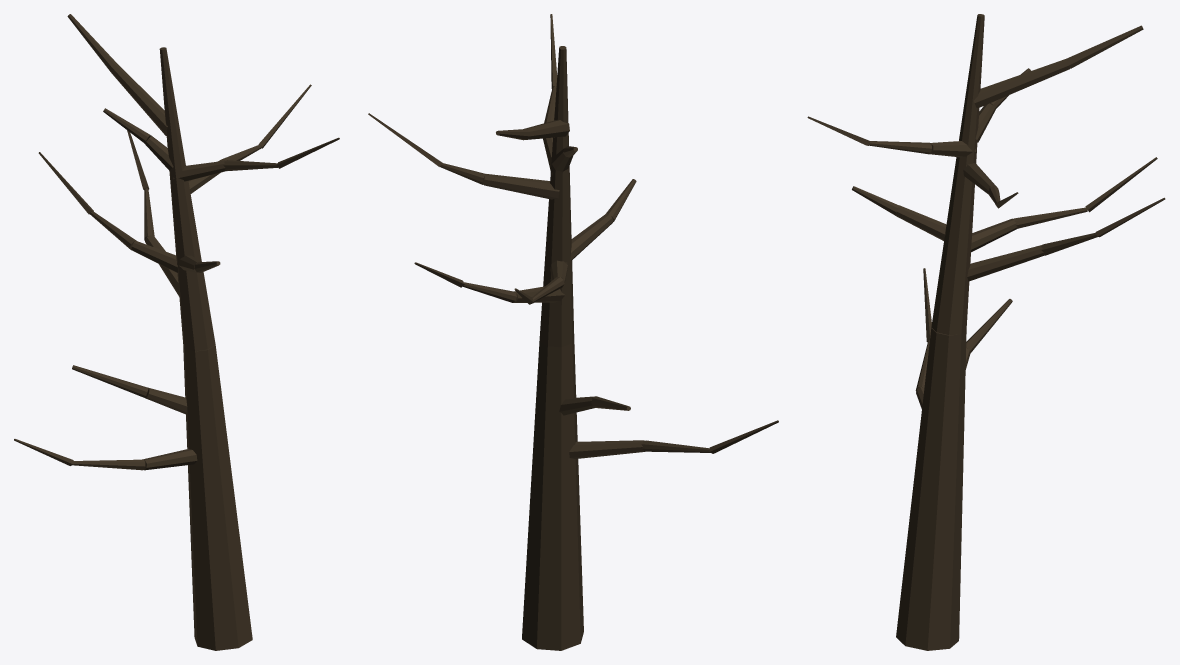
Rendered from tree_dead_1.glb.
3 renders of one model, left to right at view 1: azimuth 30°, elevation 25°; view 2: azimuth 150°, elevation 25°; view 3: azimuth 270°, elevation 25°, orthographic. The views are drawn at different scales.
Visible parts, largest first — view 1: wood; view 2: wood; view 3: wood.
Part boxes in pixels (bbox=[...]): wood: bbox=[14, 14, 339, 650]; wood: bbox=[368, 14, 778, 650]; wood: bbox=[807, 14, 1165, 650].
Size of the model in its own units: 4.44 by 7.22 by 3.85.
